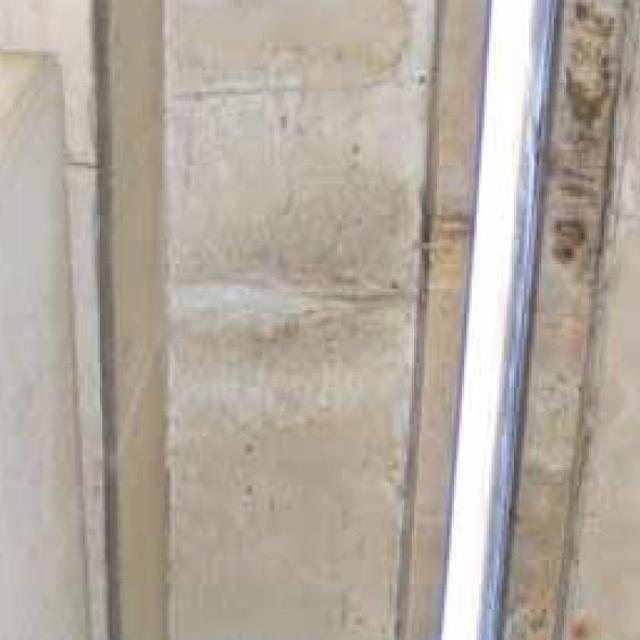freelime: (183, 266, 363, 347)
